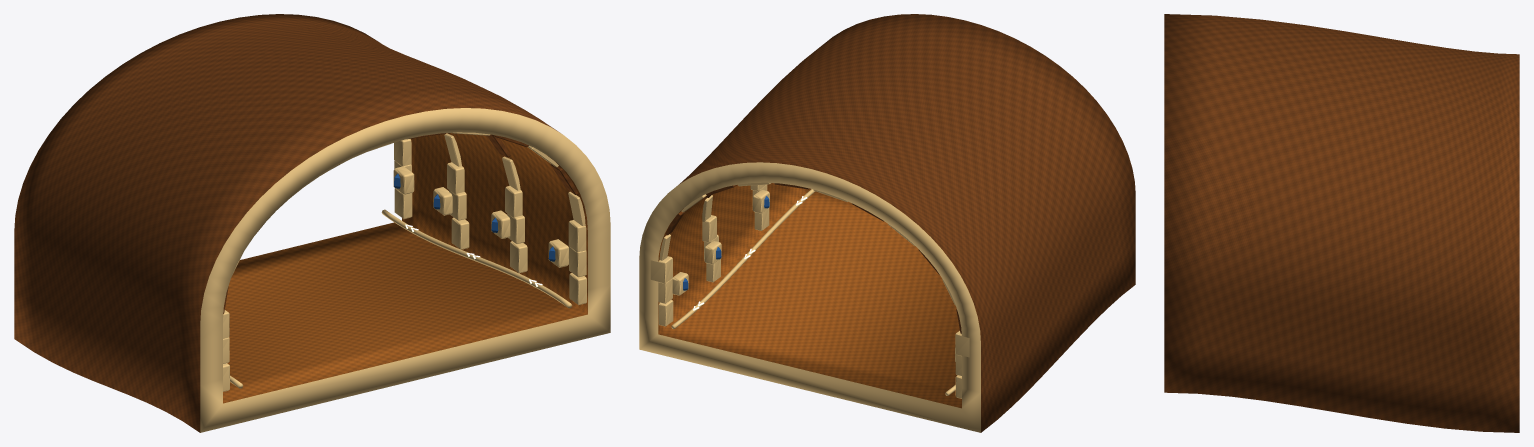
Rendered from grade_down_lod1.glb.
3 views of the same model, side by side, from view 1: azimuth 30°, elevation 25°; view 2: azimuth 150°, elevation 25°; view 3: azimuth 270°, elevation 25° (orthographic). The views are drawn at different scales.
Parts seen in each view (by area): view 1: TunnelGeometry.001; view 2: TunnelGeometry.001; view 3: TunnelGeometry.001.
Boxes of the visible parts, left/top/right/bottom form: TunnelGeometry.001: left=14, top=14, right=610, bottom=432; TunnelGeometry.001: left=639, top=14, right=1135, bottom=432; TunnelGeometry.001: left=1164, top=14, right=1519, bottom=432.
Size of the model in its own units: 15.3 by 11.02 by 12.
Materials: 5 (2 with a texture image).
